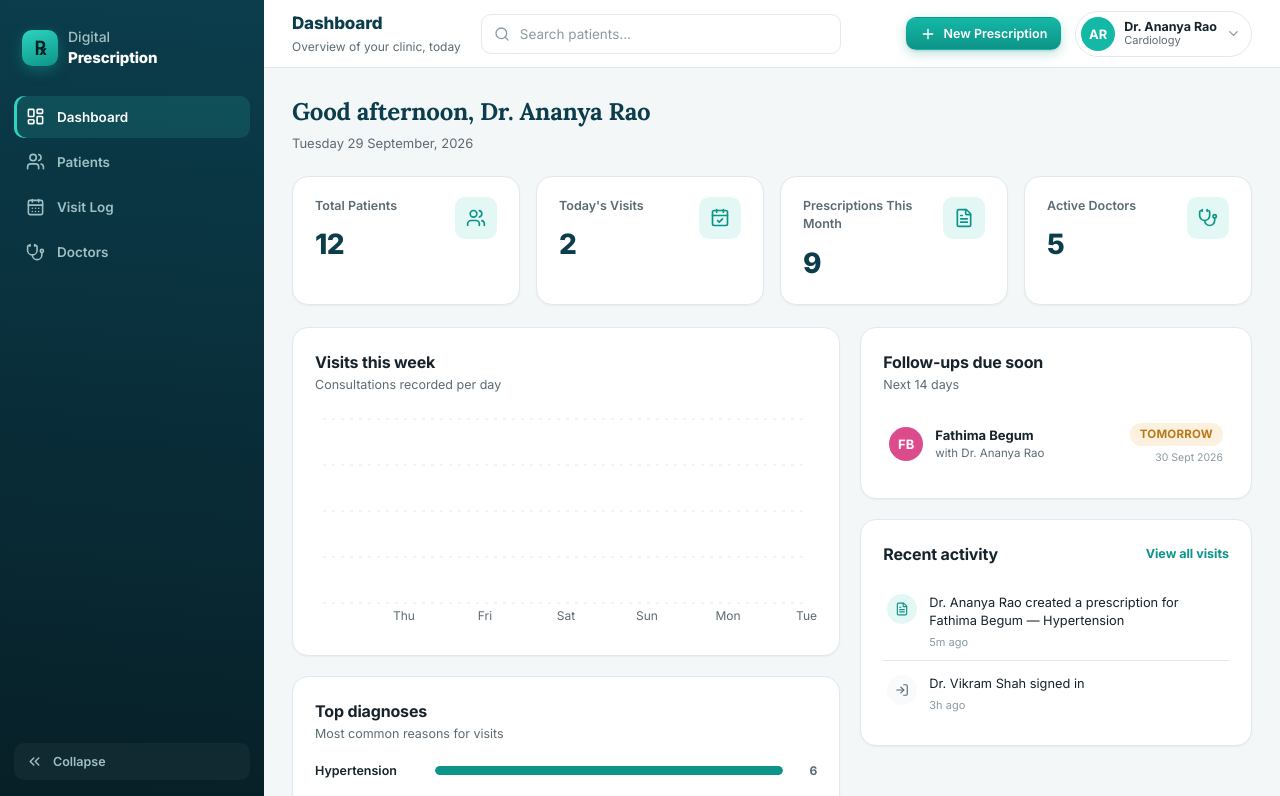
Test: AppShell › labels admins in the account menu
Click the button with aria-label "Account menu". click: [1164, 34]
box: [1075,10,1252,56]
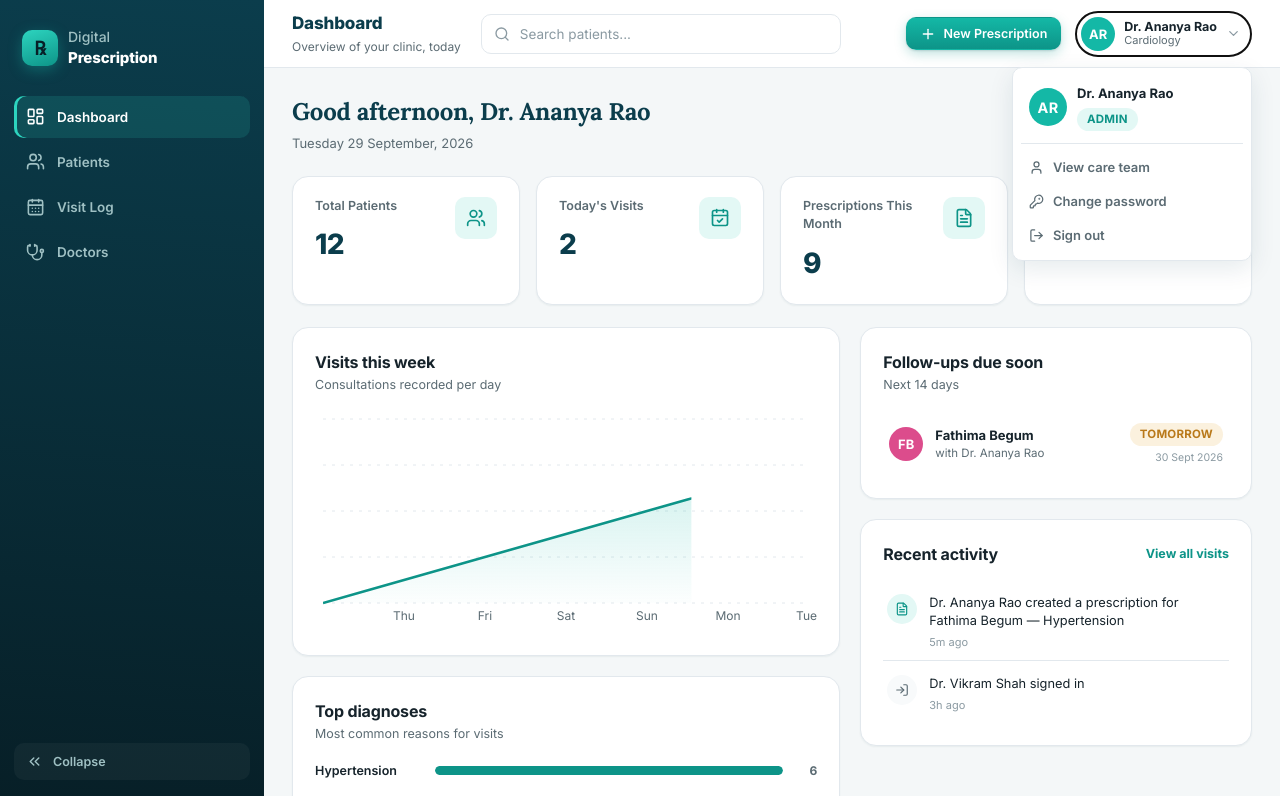
Check: the text "Admin" is shown, box [1077,108,1138,131]
